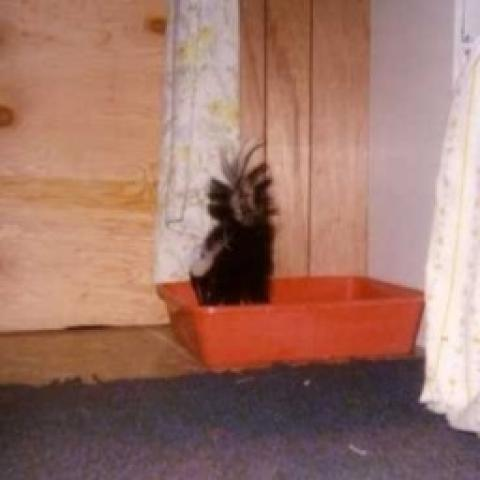small_animal: (185, 163, 277, 316)
